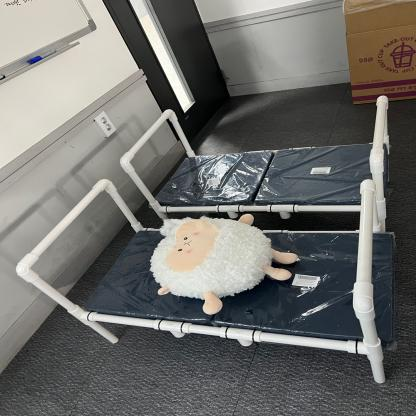yp: (16, 95, 409, 382)
